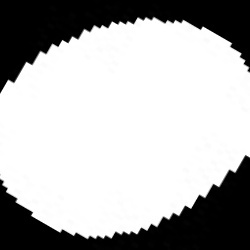spot: (0, 19, 249, 240)
